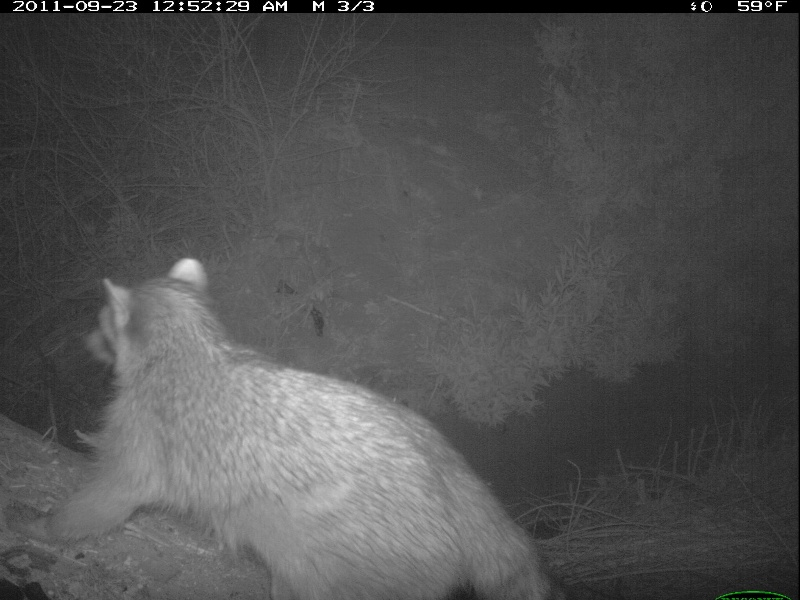raccoon: (24, 253, 558, 597)
